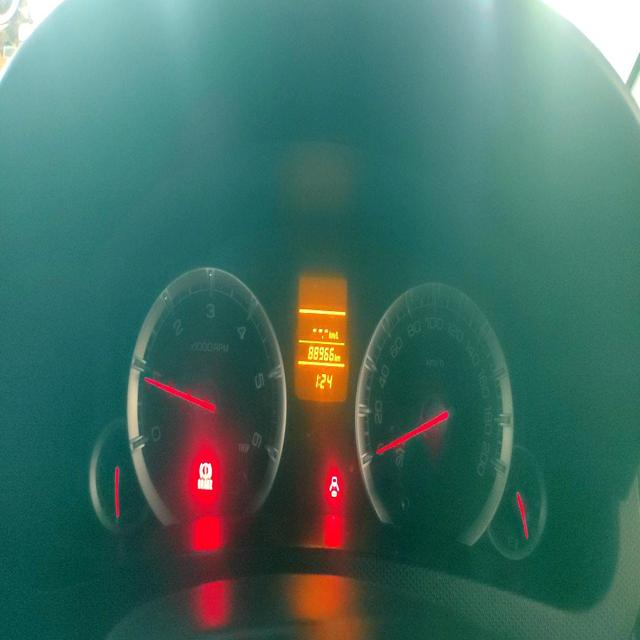odometer: (307, 344, 336, 363)
